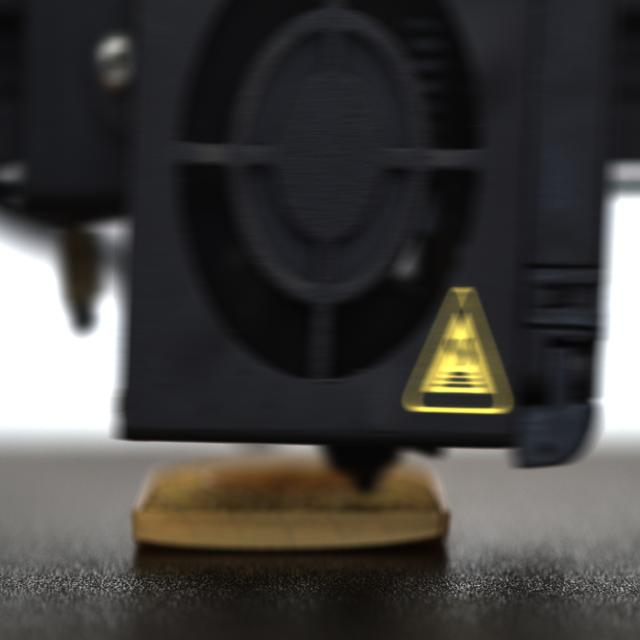Warping: (368, 524, 448, 556)
